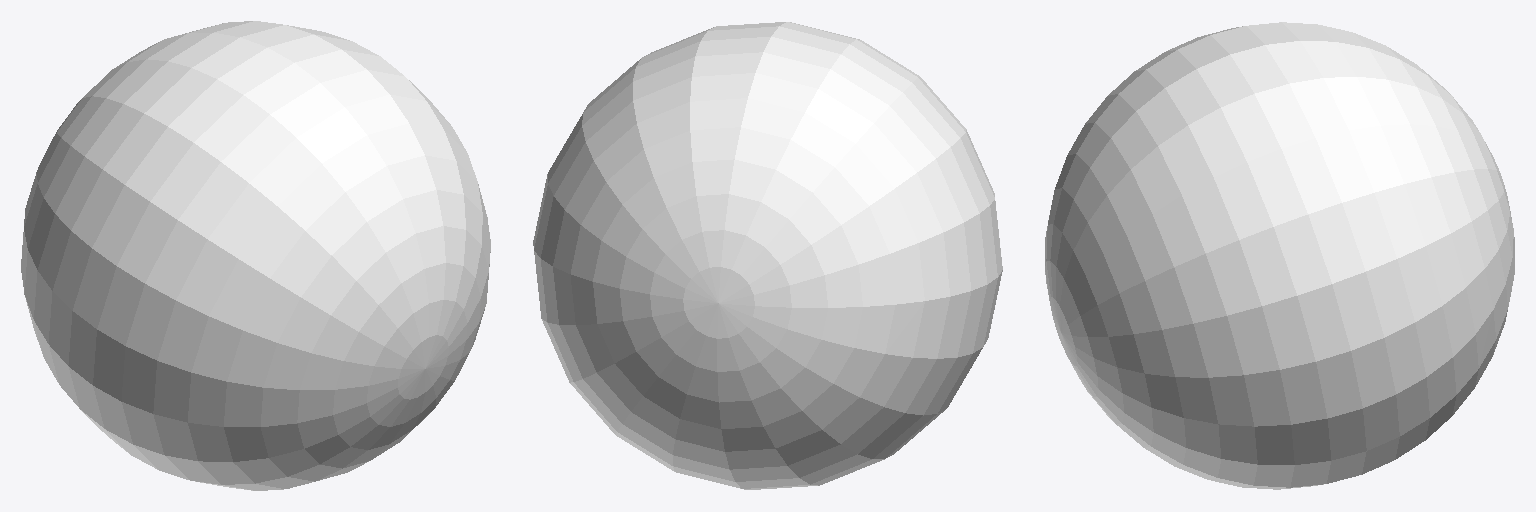
File: chidori.obj
3 renders of one model, left to right at view 1: azimuth 30°, elevation 25°; view 2: azimuth 150°, elevation 25°; view 3: azimuth 270°, elevation 25°, orthographic.
Visible parts, largest first — view 1: pSphere1_Mesh; view 2: pSphere1_Mesh; view 3: pSphere1_Mesh.
Boxes of the visible parts, <box> form: pSphere1_Mesh: <box>21,21,490,490</box>; pSphere1_Mesh: <box>533,22,1002,489</box>; pSphere1_Mesh: <box>1045,22,1514,489</box>.
Size of the model in its own units: 0.2049 by 0.2049 by 0.2049.